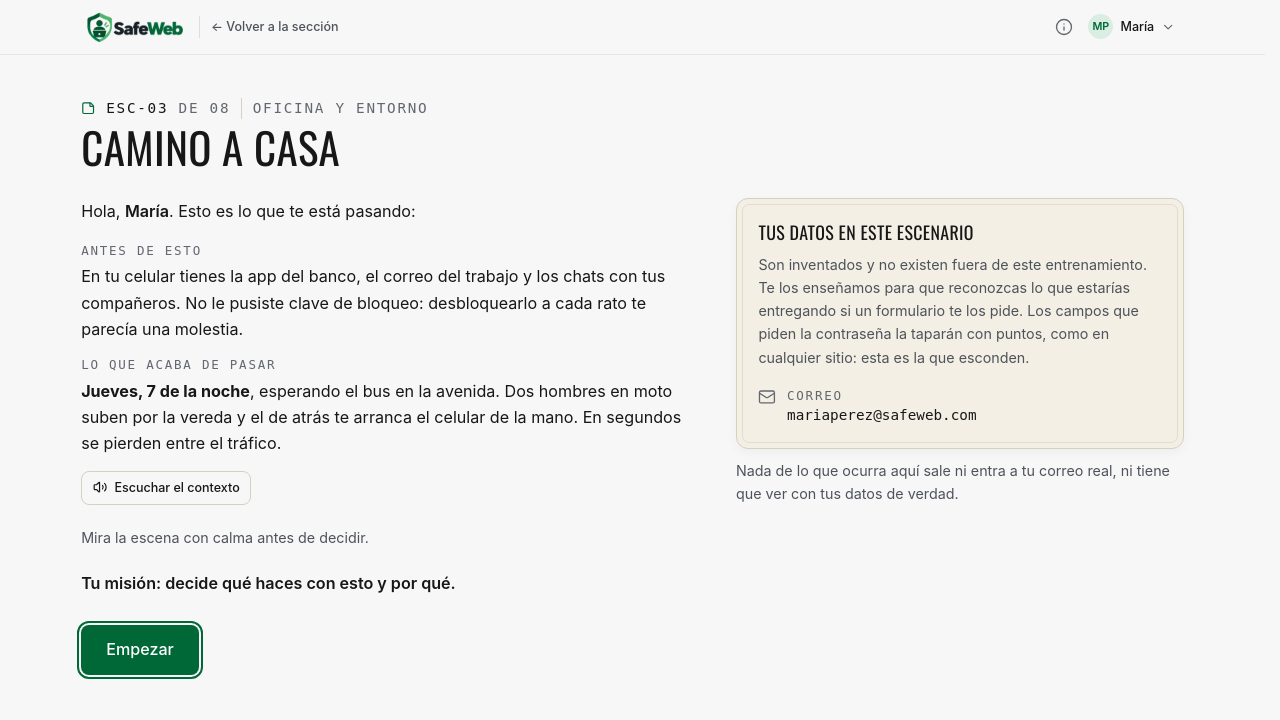
Test case: CableComprometido › bloquear primero el banco protege las cuentas
Click the button "Empezar" at (140, 650), box [81,625,199,675]
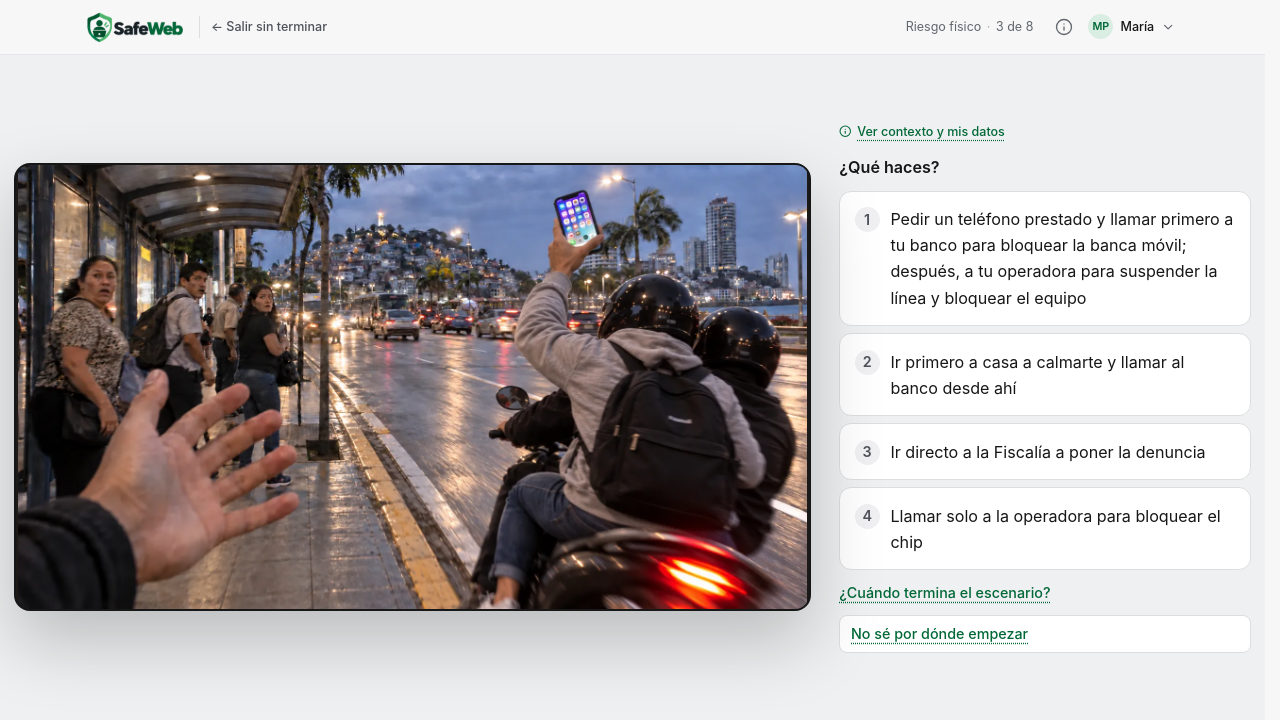
Click the button "llamar primero a tu banco" at (1062, 219), box [839,191,1251,326]
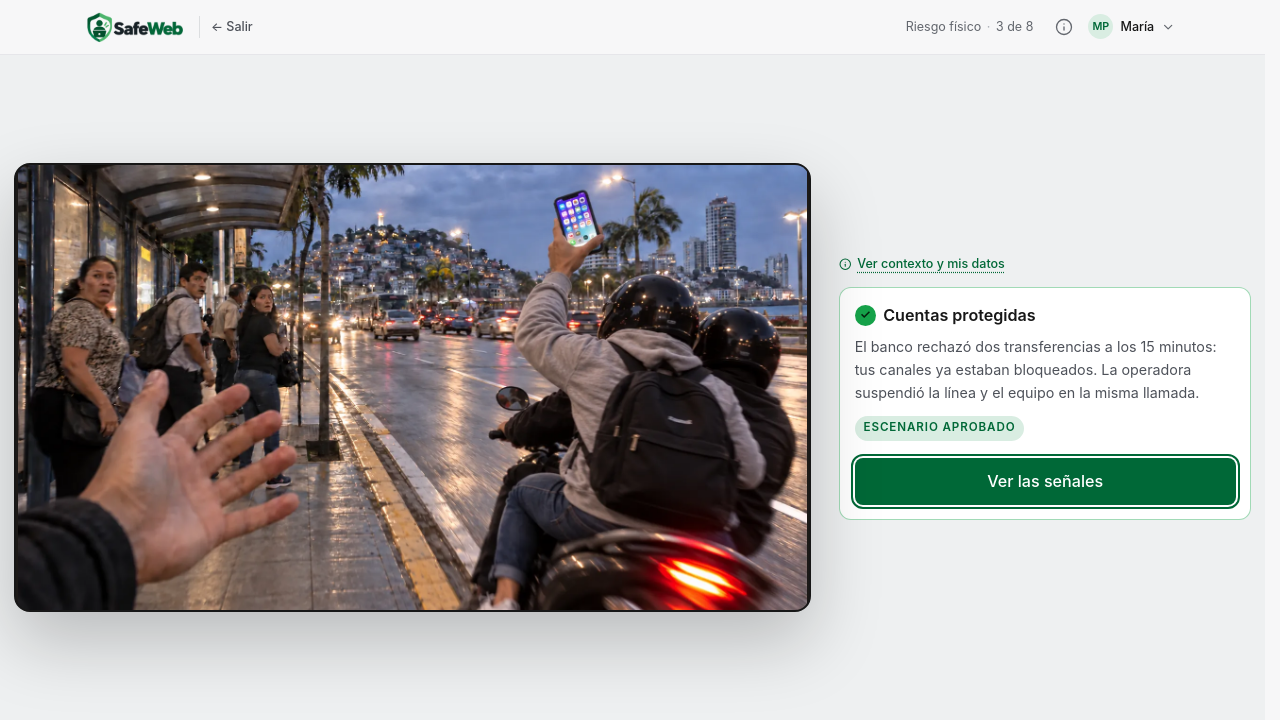
Expected: the text "Cuentas protegidas" is shown, [883,305,1036,325]
